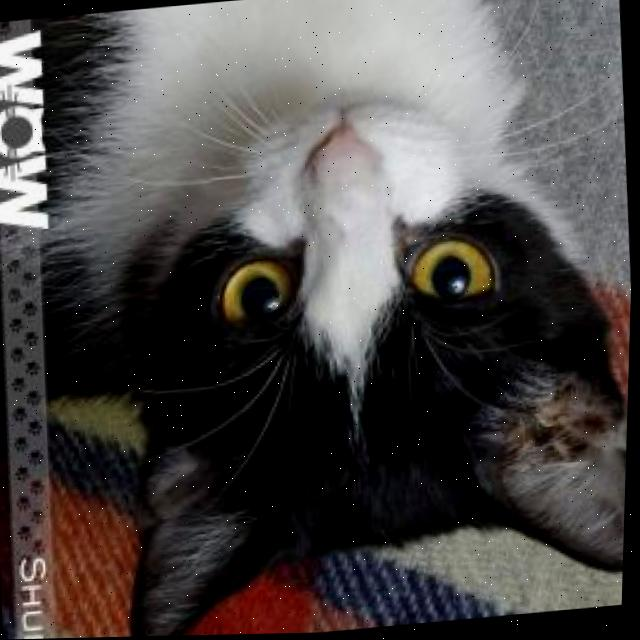Tuxedo: (27, 0, 640, 639)
